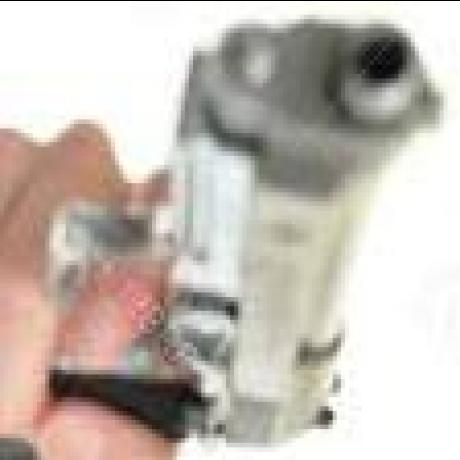weapon: (50, 14, 450, 448)
